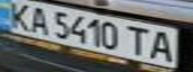0: (100, 19, 124, 51)
1: (84, 17, 103, 47)
4: (66, 14, 87, 44)
5: (48, 9, 72, 40)
A: (148, 28, 181, 62), (24, 3, 54, 35)
K: (3, 0, 36, 32)
T: (124, 24, 151, 56)
